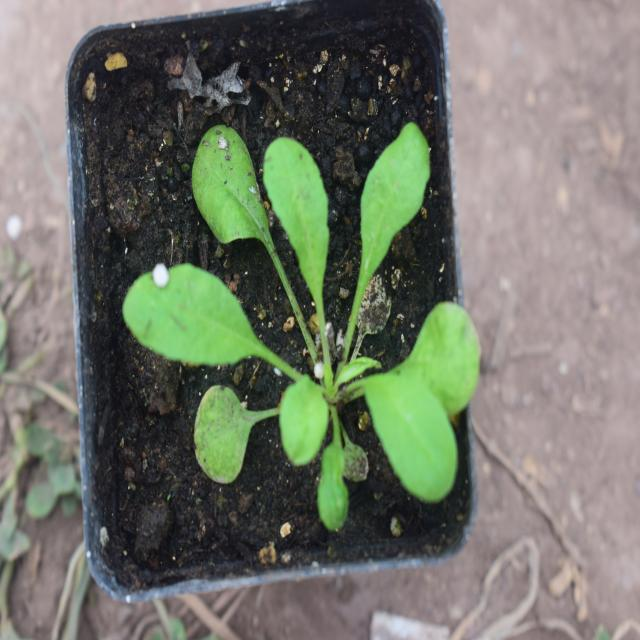Shepherd_Purse: (136, 141, 482, 514)
